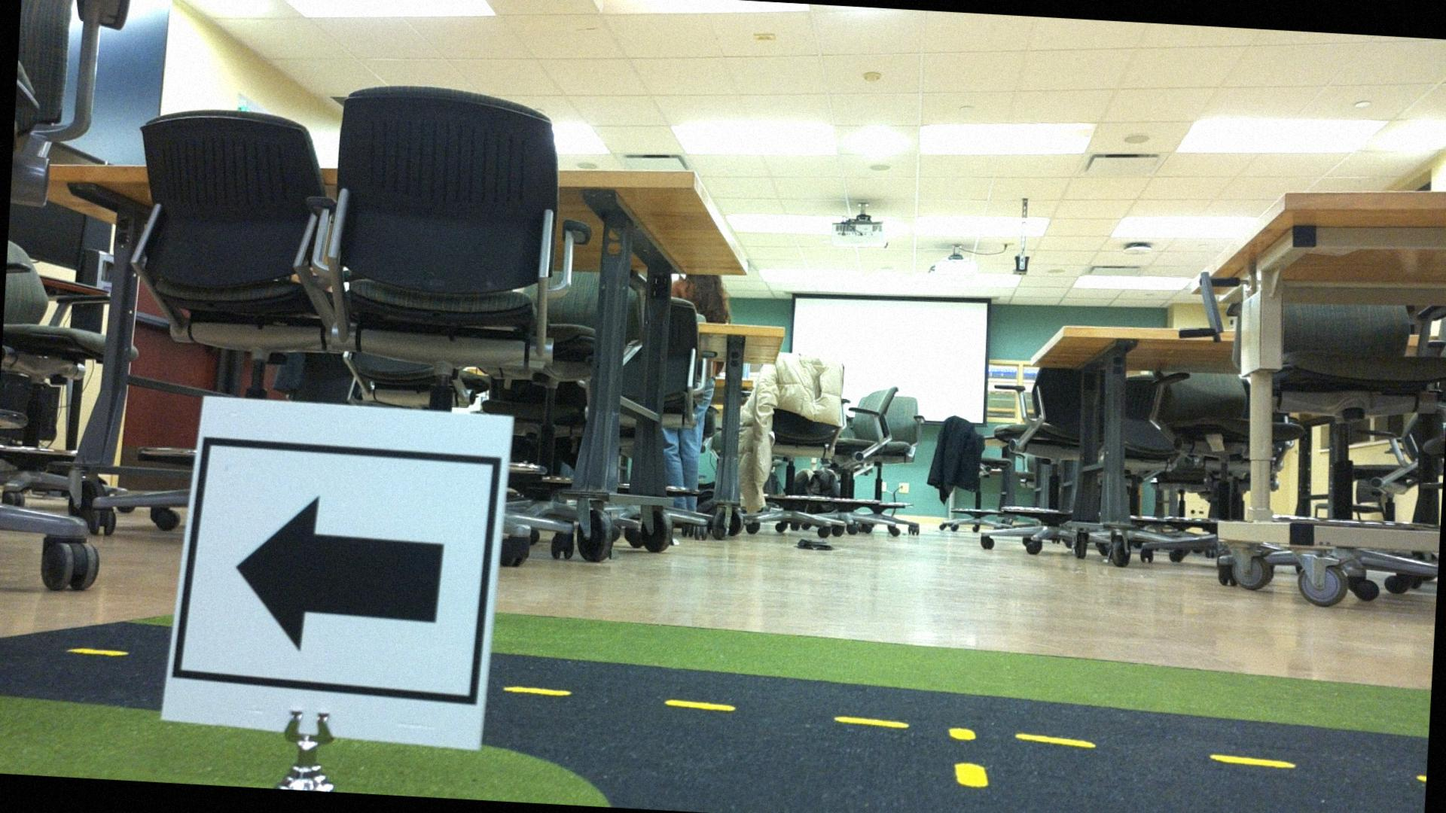turnleft: (184, 400, 502, 737)
yellowline: (508, 682, 1300, 769)
